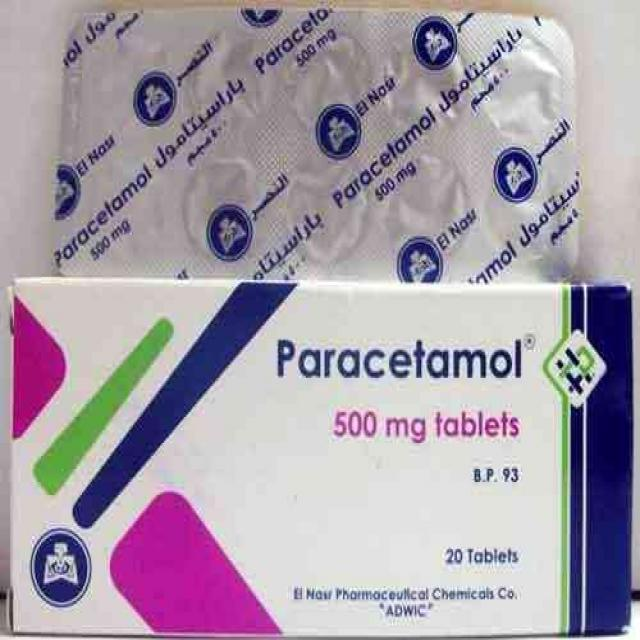drug-name: (268, 328, 527, 380)
